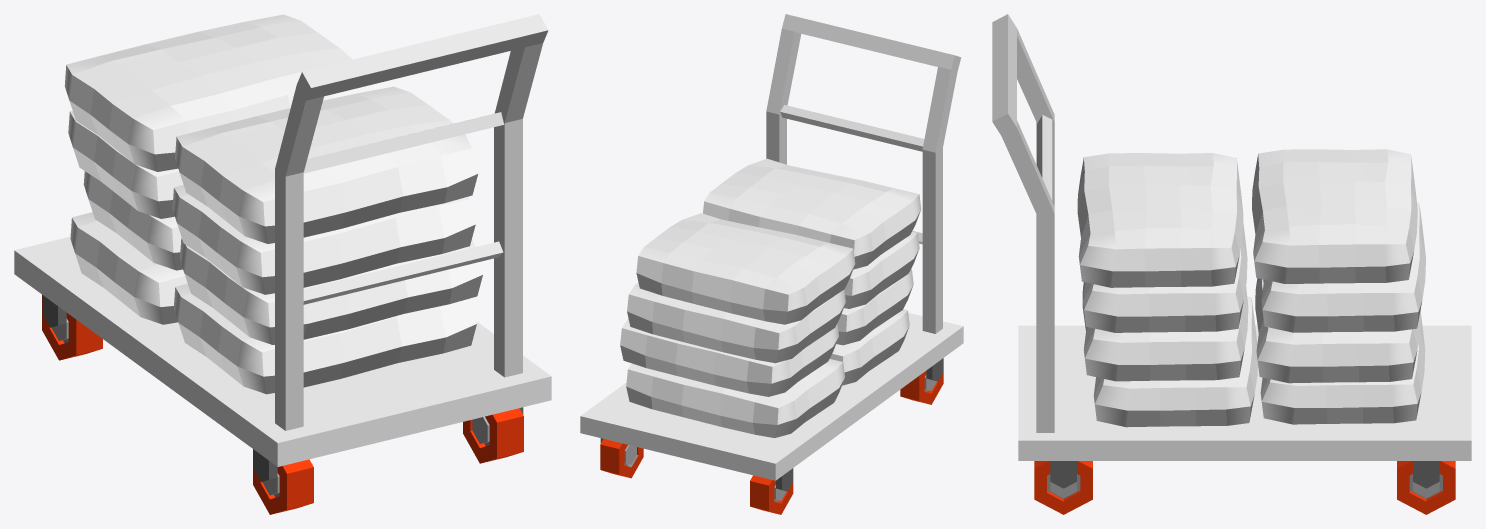
Rendered from ConcreteOnGurma3_3.fbx.
3 renders of one model, left to right at view 1: azimuth 30°, elevation 25°; view 2: azimuth 150°, elevation 25°; view 3: azimuth 270°, elevation 25°, orthographic. The views are drawn at different scales.
Visible parts, largest first — view 1: Cube.003; view 2: Cube.003; view 3: Cube.003.
Boxes of the visible parts, <box> form: Cube.003: <box>14,14,551,514</box>; Cube.003: <box>580,14,963,514</box>; Cube.003: <box>992,14,1471,514</box>.
Bounding box in the file's own units: 60 × 97.71 × 106.
